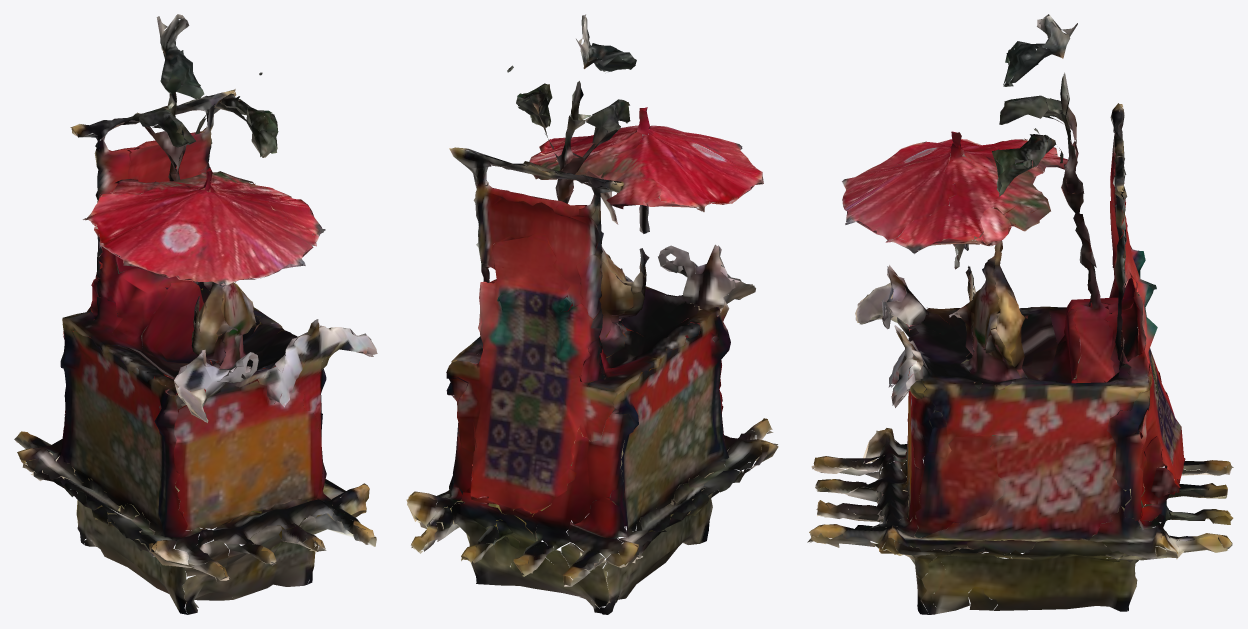
File: 占出山.glb
3 renders of one model, left to right at view 1: azimuth 30°, elevation 25°; view 2: azimuth 150°, elevation 25°; view 3: azimuth 270°, elevation 25°, orthographic. The views are drawn at different scales.
Visible parts, largest first — view 1: mesh; view 2: mesh; view 3: mesh.
Boxes of the visible parts, x1,y1,x2,y2 form: mesh: [14, 14, 377, 614]; mesh: [406, 14, 778, 614]; mesh: [807, 14, 1233, 614].
Bounding box in the file's own units: 2.66 × 5.75 × 3.94.
Materials: 1 (1 with a texture image).
